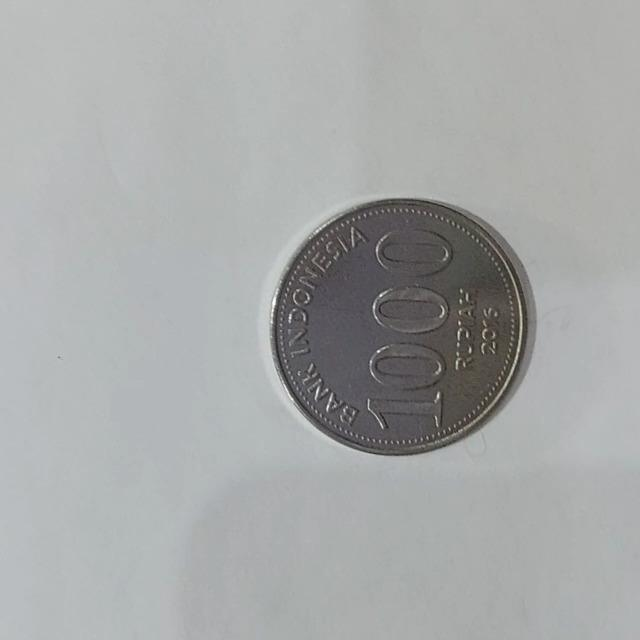Rp100: (268, 195, 536, 456)
